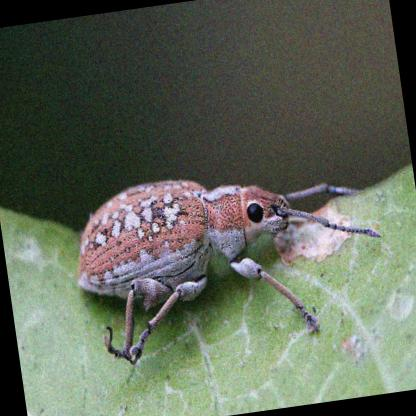ash weevil: (73, 175, 383, 362)
